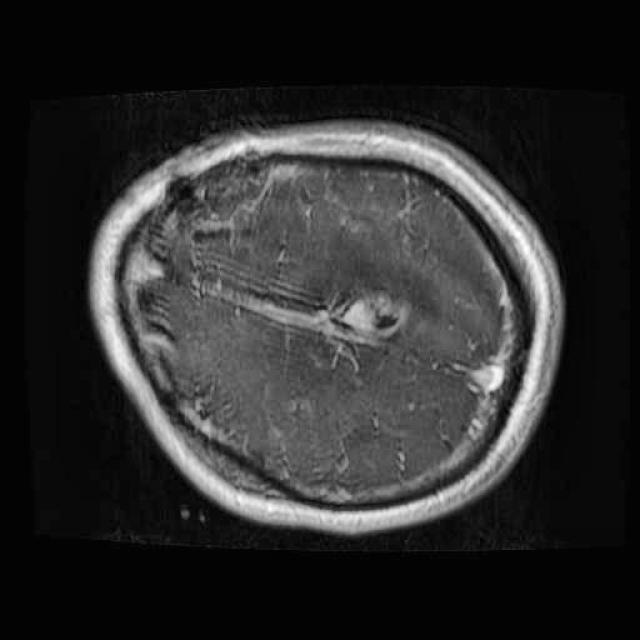Tumor: (334, 283, 414, 347)
